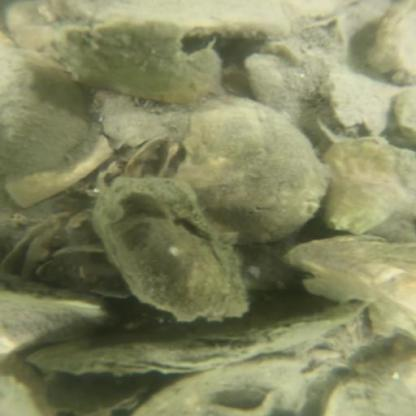Oyster-Closed: (173, 92, 332, 250), (18, 17, 227, 107), (0, 45, 90, 178), (0, 267, 124, 358), (0, 128, 118, 212), (321, 132, 414, 235), (317, 343, 413, 414), (358, 0, 416, 84)
Oyster-Open: (87, 176, 246, 320)
